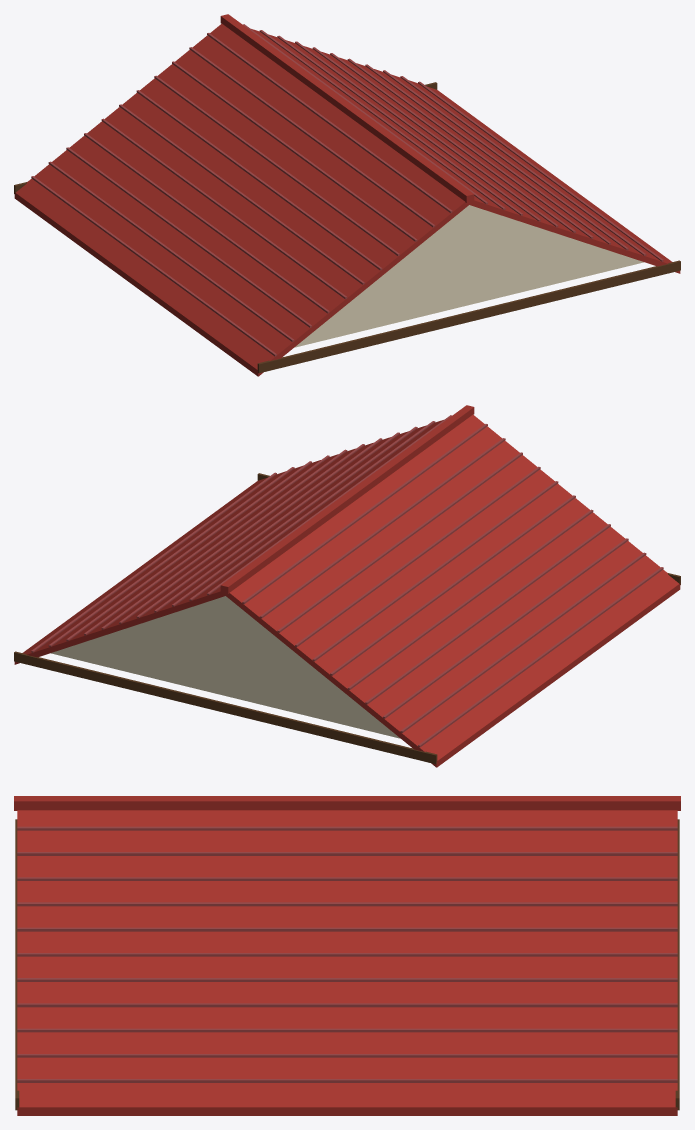
File: house_roof.glb
The picture shows the model from 3 angles, top to bottom: view 1: azimuth 30°, elevation 25°; view 2: azimuth 150°, elevation 25°; view 3: azimuth 270°, elevation 25°; orthographic projection. The views are drawn at different scales.
Parts seen in each view (by area): view 1: HouseRoof; view 2: HouseRoof; view 3: HouseRoof.
Part boxes in pixels (box(x1,y1,x2,y2)): HouseRoof: box(14, 14, 680, 376); HouseRoof: box(14, 405, 680, 767); HouseRoof: box(14, 796, 680, 1115).
Size of the model in its own units: 9.9 by 2.94 by 10.
